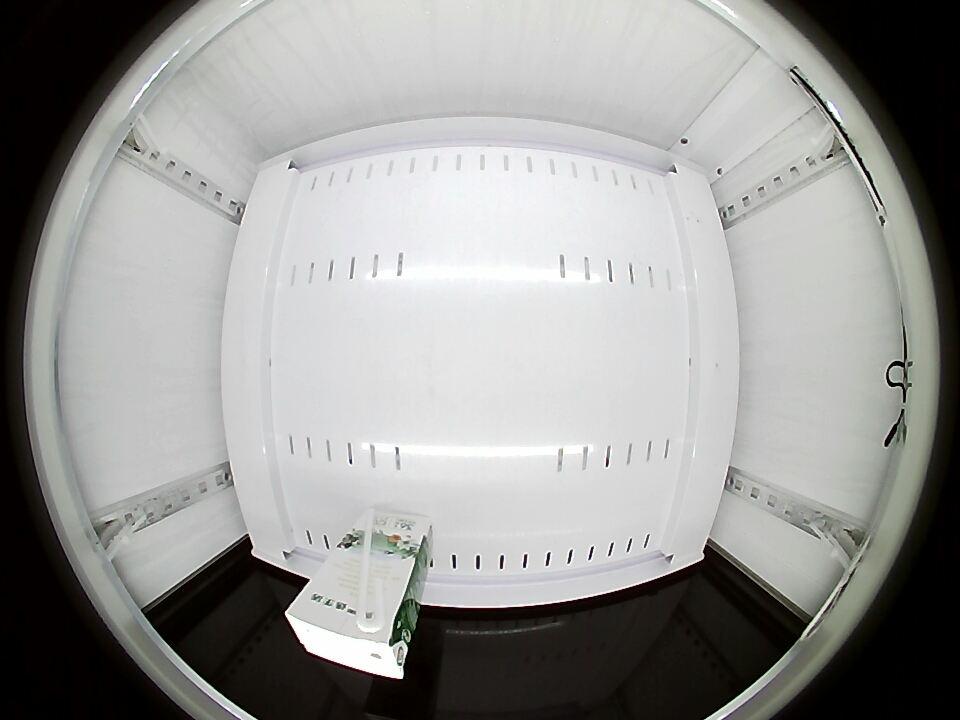jindian: (285, 579, 412, 679)
